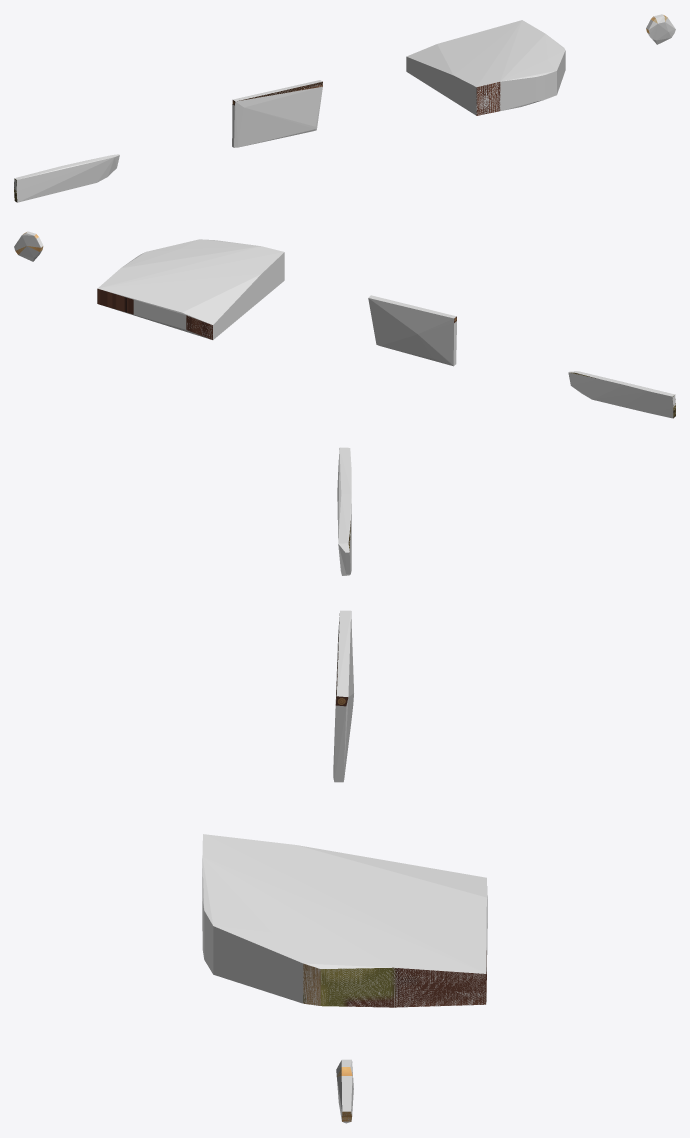
The model's file is SM_DB06_BeehiveParts.fbx.
3 views of the same model, one above another, from view 1: azimuth 30°, elevation 25°; view 2: azimuth 150°, elevation 25°; view 3: azimuth 270°, elevation 25° (orthographic). The views are drawn at different scales.
Visible parts, largest first — view 1: DB06_Beehive_Lid_COL, DB06_Beehive_Frame_COL, DB06_Beehive_WallBoard_COL, DB06_Beehive_Lid, DB06_Beehive_CombChunk_COL; view 2: DB06_Beehive_Lid_COL, DB06_Beehive_Frame_COL, DB06_Beehive_WallBoard_COL, DB06_Beehive_Lid, DB06_Beehive_CombChunk_COL; view 3: DB06_Beehive_Lid_COL, DB06_Beehive_Lid, DB06_Beehive_Frame_COL, DB06_Beehive_WallBoard_COL.
Boxes of the visible parts, x1,y1,x2,y2 form: DB06_Beehive_Lid_COL: (406, 20, 565, 115); DB06_Beehive_Frame_COL: (232, 80, 322, 147); DB06_Beehive_WallBoard_COL: (14, 154, 119, 202); DB06_Beehive_Lid: (476, 82, 500, 115); DB06_Beehive_CombChunk_COL: (646, 14, 675, 44); DB06_Beehive_Lid_COL: (98, 239, 284, 339); DB06_Beehive_Frame_COL: (368, 295, 456, 366); DB06_Beehive_WallBoard_COL: (568, 371, 675, 418); DB06_Beehive_Lid: (97, 288, 212, 339); DB06_Beehive_CombChunk_COL: (14, 231, 43, 261); DB06_Beehive_Lid_COL: (202, 834, 487, 1007); DB06_Beehive_Lid: (303, 950, 486, 1007); DB06_Beehive_Frame_COL: (333, 610, 353, 782); DB06_Beehive_WallBoard_COL: (337, 447, 351, 575).
Size of the model in its own units: 3.74 by 0.2577 by 0.7.
